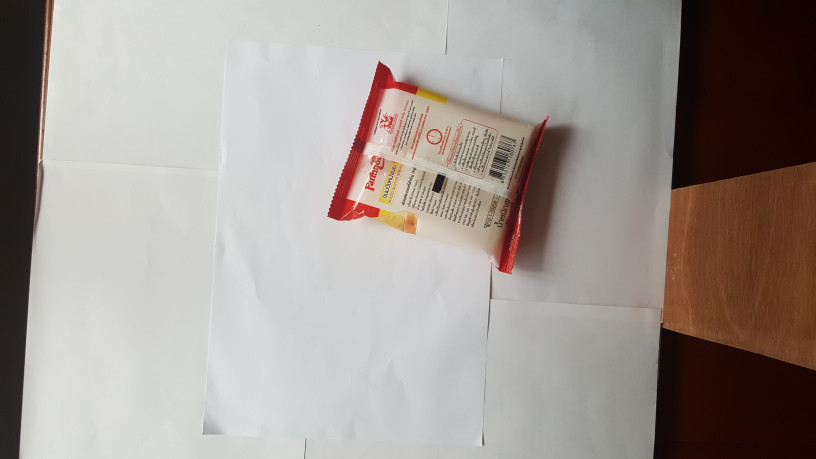farmhouse-bread-butter: (313, 59, 564, 284)
